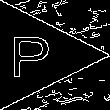P_N: (16, 30, 58, 80)
